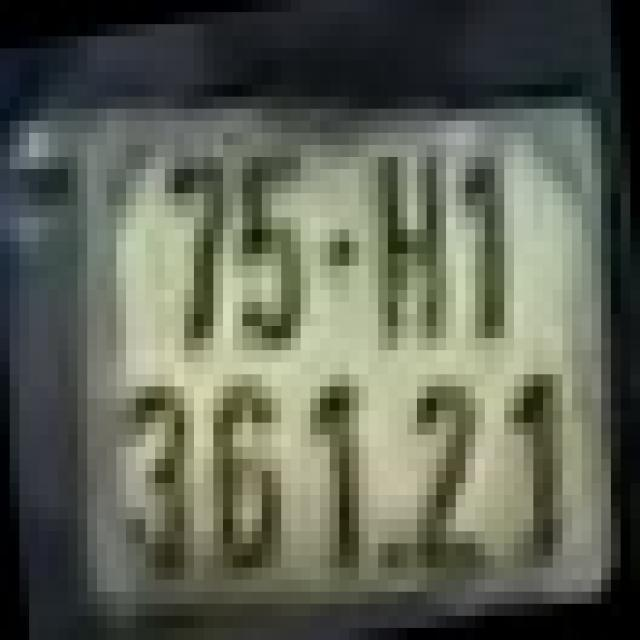1: (514, 374, 572, 568), (311, 387, 368, 568), (466, 157, 514, 338)
2: (407, 387, 495, 568)
3: (126, 386, 194, 580)
5: (242, 157, 310, 350)
6: (214, 387, 282, 568)
7: (165, 157, 223, 350)
H: (378, 144, 446, 350)
